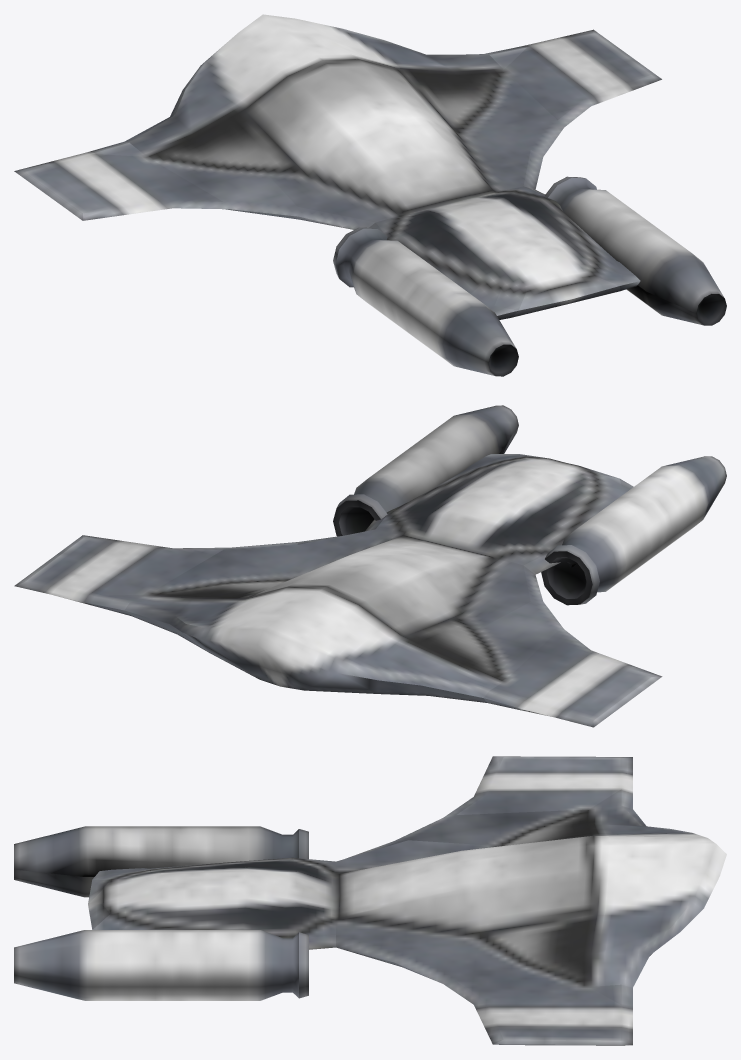
File: Impero_1.fbx
3 views of the same model, one above another, from view 1: azimuth 30°, elevation 25°; view 2: azimuth 150°, elevation 25°; view 3: azimuth 270°, elevation 25° (orthographic).
Visible parts, largest first — view 1: Texture, Colore1; view 2: Texture, Colore1; view 3: Colore1, Texture.
Boxes of the visible parts, x1,y1,x2,y2 form: Texture: (14,29,726,376); Colore1: (50,14,691,364); Texture: (14,405,726,727); Colore1: (50,415,706,718); Colore1: (85,772,726,1026); Texture: (14,756,703,1045).
Bounding box in the file's own units: 3.22 × 0.5312 × 3.37.
2 materials, 2 textured.
